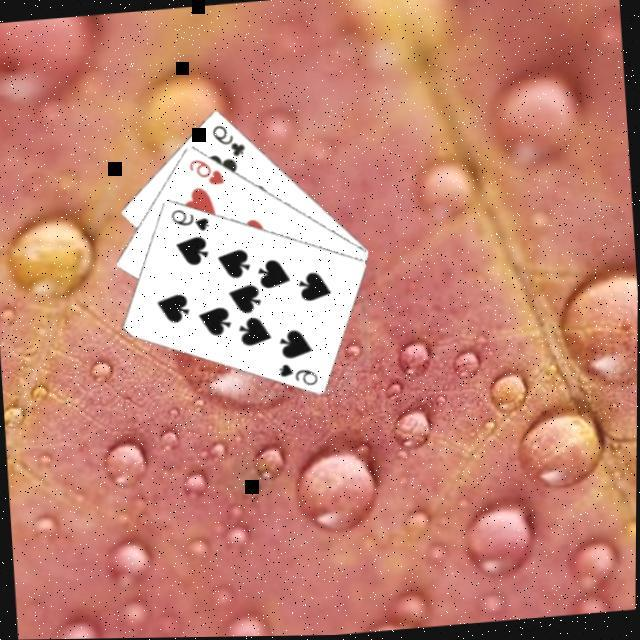6H: (183, 154, 225, 190)
9C: (206, 120, 247, 163)
9S: (164, 204, 211, 238), (274, 358, 320, 392)
